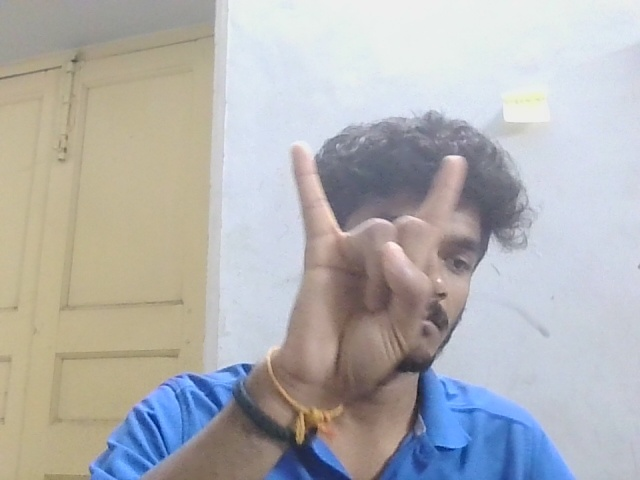Iloveyou: (230, 113, 487, 396)
